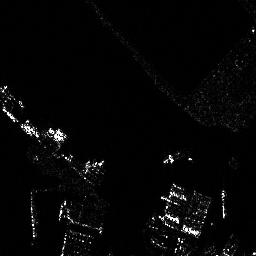ship: (218, 188, 227, 219)
